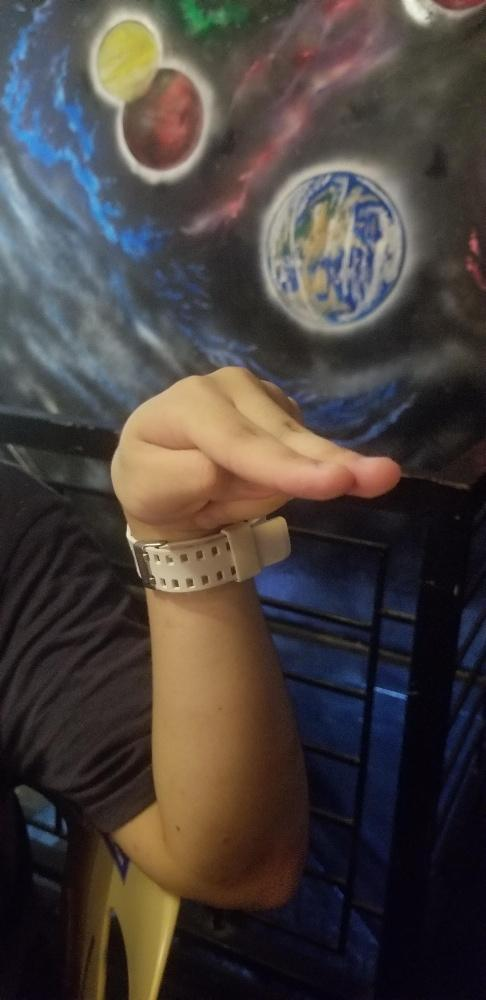n: (109, 362, 402, 534)
